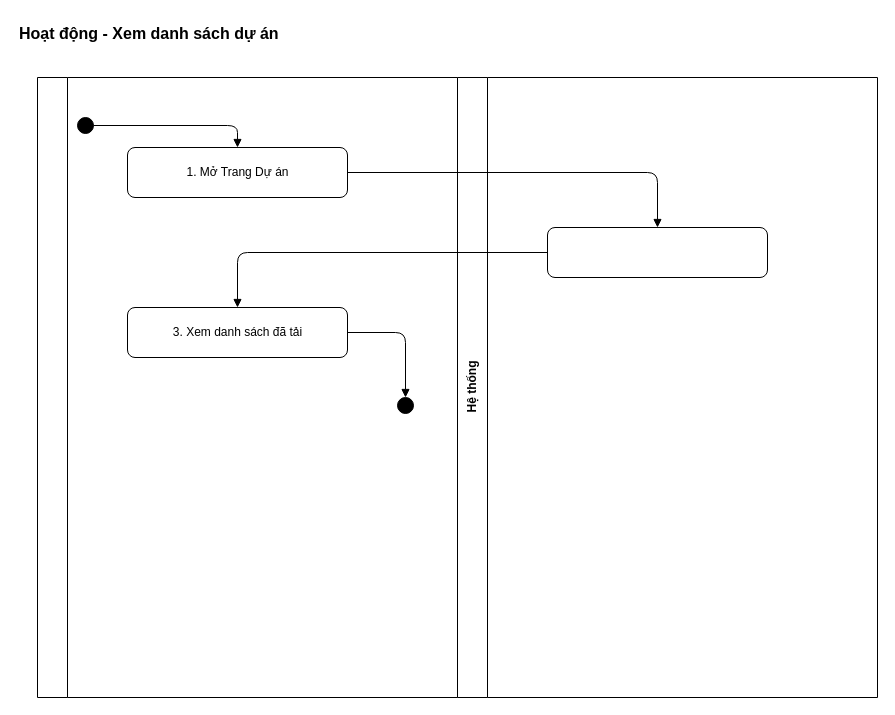
Some shapes in this 895 by 715 pixel diagram are drawn without their labels. Here are the shapes that lost their labels. From the top down, the box of each, then its label:
(546, 226, 768, 278): 2. Tải danh sách dự án
(36, 76, 458, 698): Người dùng
